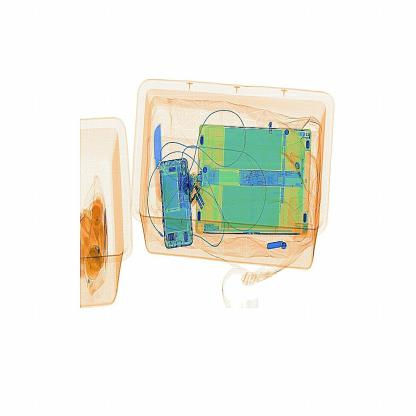wrench: (151, 119, 164, 201)
